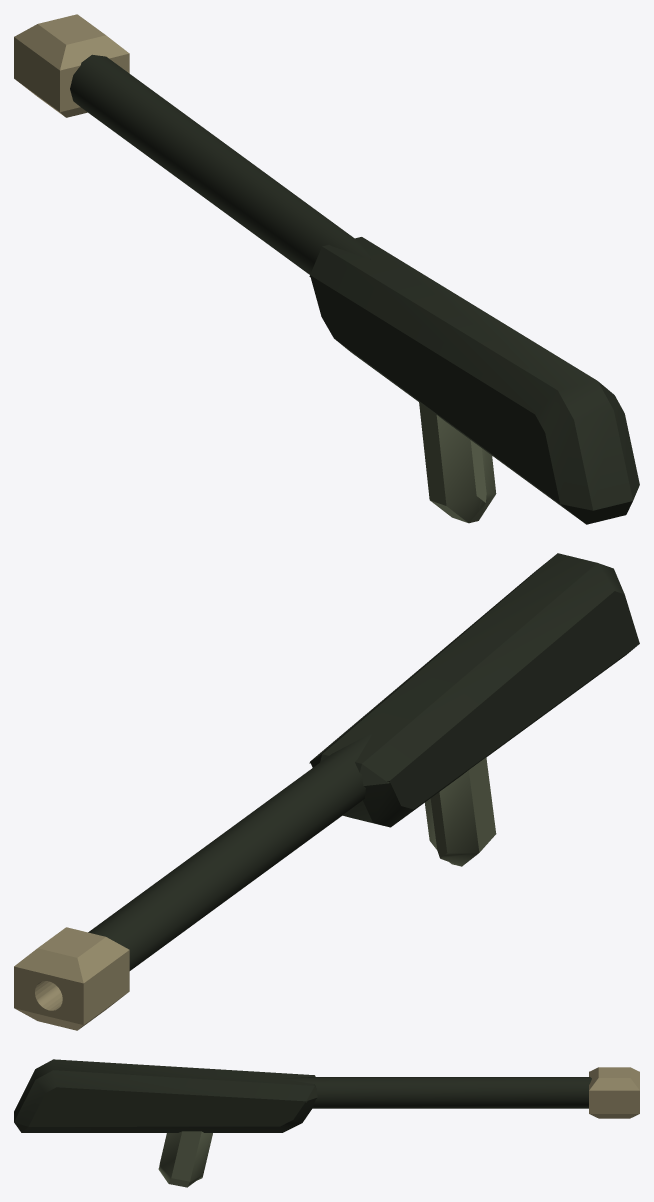
The model's file is w_b_heavy_gun.glb.
3 views of the same model, one above another, from view 1: azimuth 30°, elevation 25°; view 2: azimuth 150°, elevation 25°; view 3: azimuth 270°, elevation 25° (orthographic). The views are drawn at different scales.
Parts seen in each view (by area): view 1: weapon_body; view 2: weapon_body; view 3: weapon_body.
Boxes of the visible parts, x1,y1,x2,y2 form: weapon_body: (14,14,639,524); weapon_body: (14,553,639,1030); weapon_body: (14,1059,639,1187).
Bounding box in the file's own units: 0.48 × 1.26 × 5.89.
